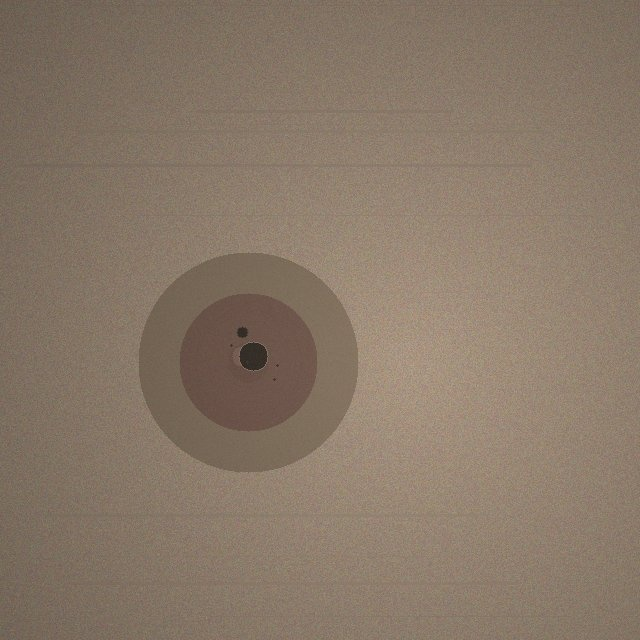shrinkage: (138, 252, 358, 472)
